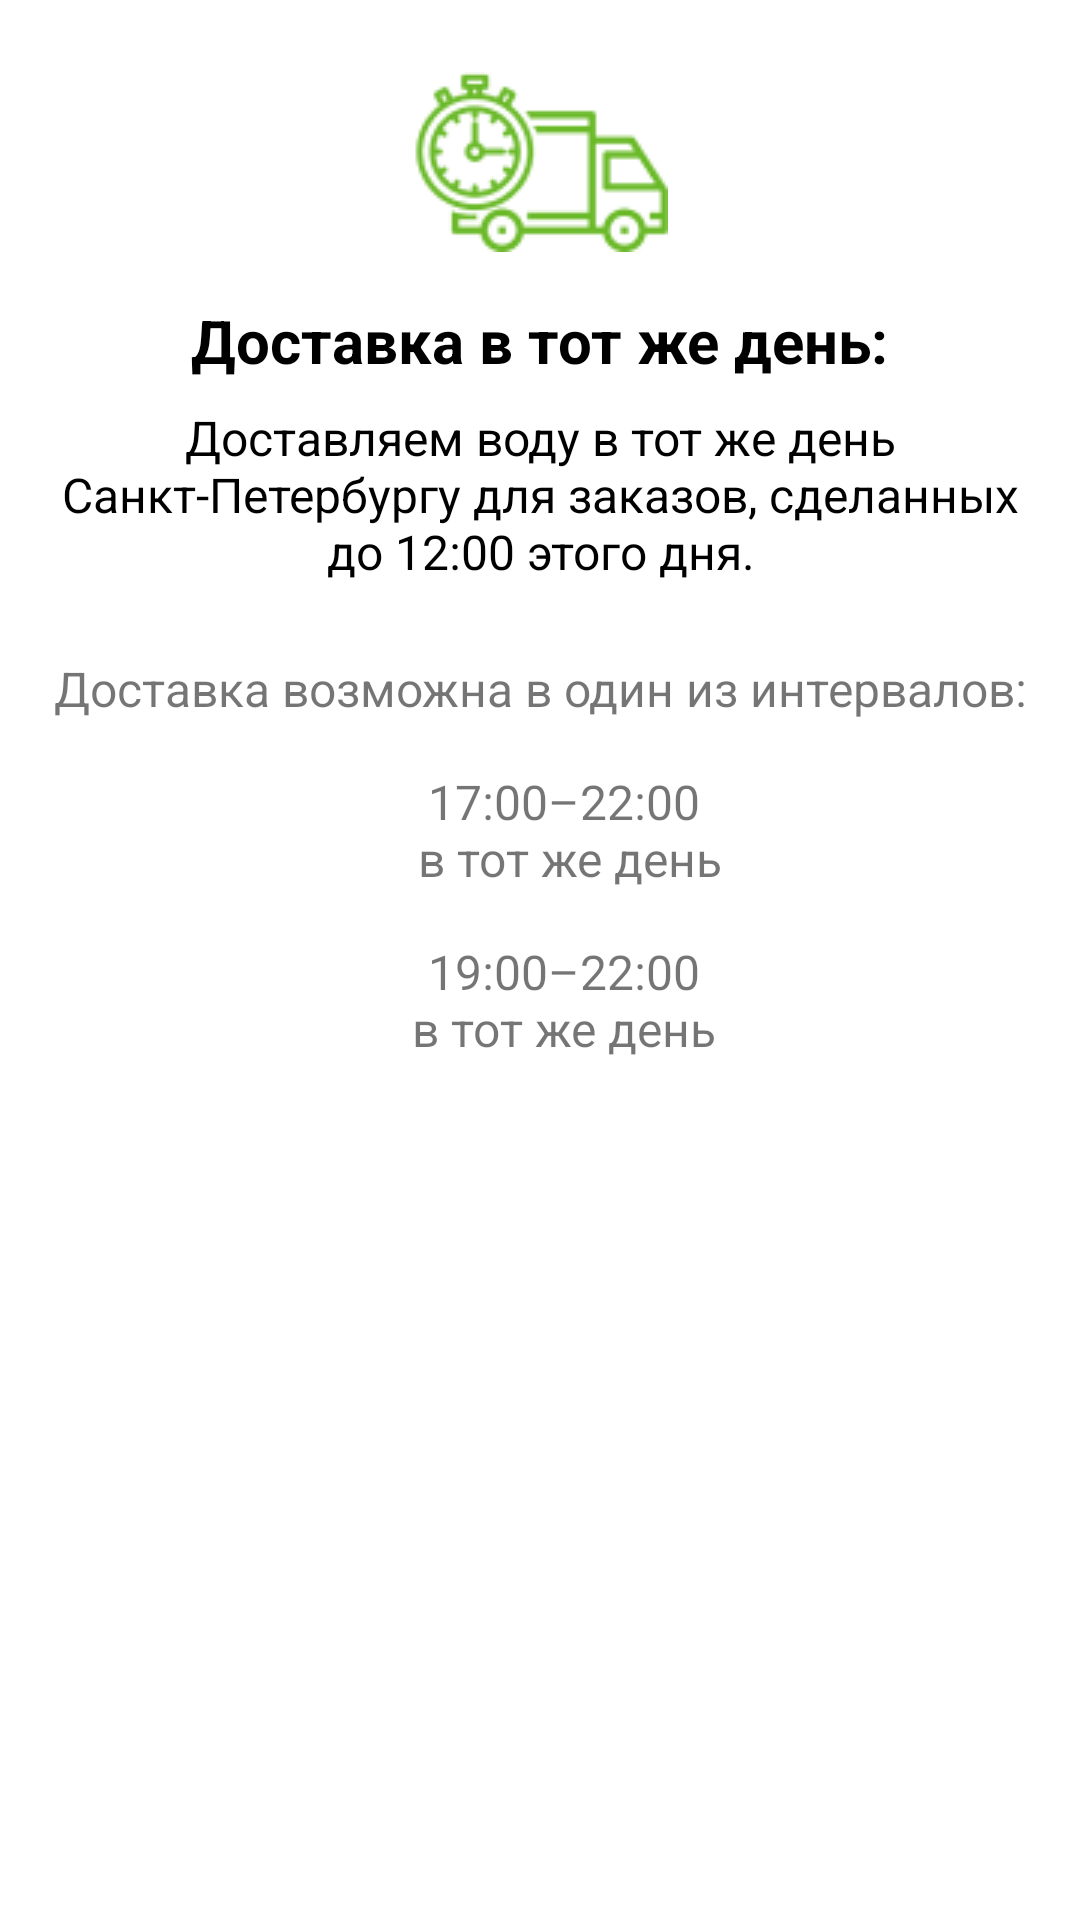

Icons on this 1080 × 1920 Android screen, each with its box as (x1, y1, x2, y2):
delivery two hour: (415, 74, 668, 252)
